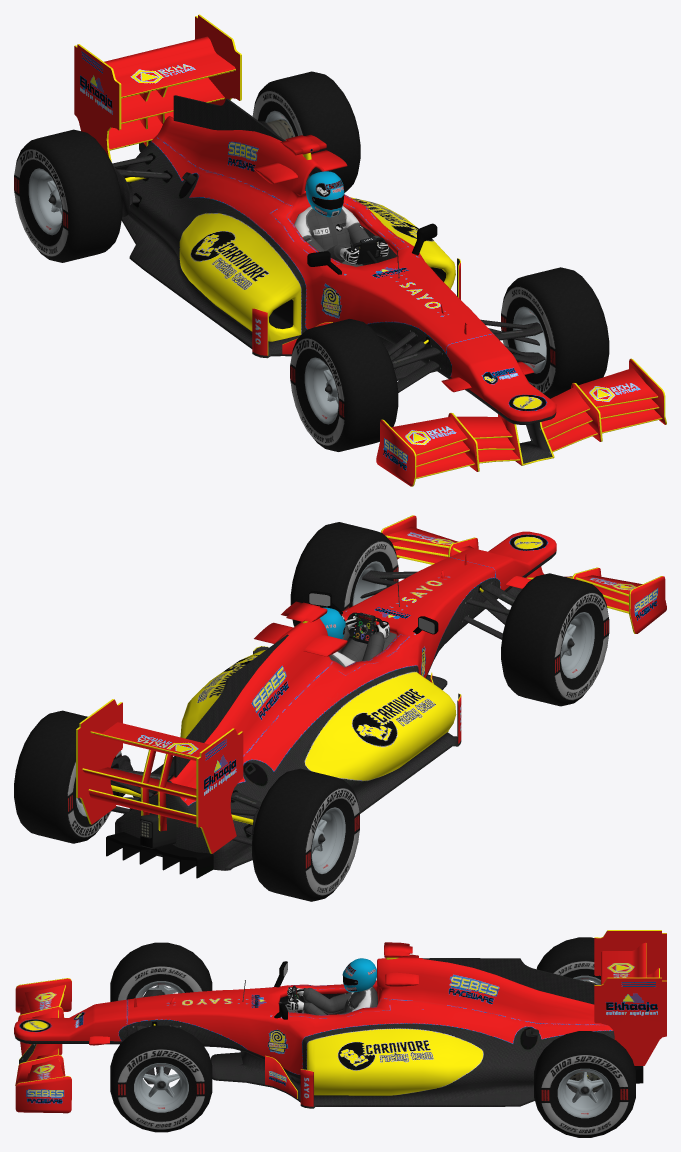
3 renders of one model, top to bottom at view 1: azimuth 30°, elevation 25°; view 2: azimuth 150°, elevation 25°; view 3: azimuth 270°, elevation 25°, orthographic. The views are drawn at different scales.
Parts seen in each view (by area): view 1: RaceCar_V01_Body, RC_Tyre_V02_FR_MID, RC_Tyre_V02_FR_MID__1_, RC_Tyre_V02_FR_MID__2_, RC_Tyre_V02_FR_MID__3_, RC_Pilot_in_the_car_V01_FREE, RC_Pilot_Helmet_V01_FREE; view 2: RaceCar_V01_Body, RC_Tyre_V02_FR_MID__1_, RC_Tyre_V02_FR_MID, RC_Tyre_V02_FR_MID__3_, RC_Tyre_V02_FR_MID__2_, RC_Pilot_in_the_car_V01_FREE, RC_Steering_Wheel_V01, RC_Pilot_Helmet_V01_FREE; view 3: RaceCar_V01_Body, RC_Tyre_V02_FR_MID__2_, RC_Tyre_V02_FR_MID__3_, RC_Tyre_V02_FR_MID__1_, RC_Tyre_V02_FR_MID, RC_Pilot_in_the_car_V01_FREE, RC_Pilot_Helmet_V01_FREE.
Part boxes in pixels (x1=…): RaceCar_V01_Body: x1=74, y1=14, x2=666, y2=486; RC_Tyre_V02_FR_MID: x1=14, y1=129, x2=122, y2=262; RC_Tyre_V02_FR_MID__1_: x1=290, y1=319, x2=398, y2=451; RC_Tyre_V02_FR_MID__2_: x1=501, y1=267, x2=609, y2=398; RC_Tyre_V02_FR_MID__3_: x1=252, y1=71, x2=360, y2=192; RC_Pilot_in_the_car_V01_FREE: x1=294, y1=206, x2=388, y2=266; RC_Pilot_Helmet_V01_FREE: x1=306, y1=171, x2=344, y2=217; RaceCar_V01_Body: x1=76, y1=515, x2=666, y2=878; RC_Tyre_V02_FR_MID__1_: x1=501, y1=573, x2=609, y2=706; RC_Tyre_V02_FR_MID: x1=252, y1=768, x2=359, y2=901; RC_Tyre_V02_FR_MID__3_: x1=14, y1=710, x2=121, y2=843; RC_Tyre_V02_FR_MID__2_: x1=290, y1=522, x2=398, y2=626; RC_Pilot_in_the_car_V01_FREE: x1=329, y1=616, x2=396, y2=667; RC_Steering_Wheel_V01: x1=347, y1=612, x2=383, y2=643; RC_Pilot_Helmet_V01_FREE: x1=319, y1=607, x2=345, y2=639; RaceCar_V01_Body: x1=14, y1=930, x2=666, y2=1113; RC_Tyre_V02_FR_MID__2_: x1=110, y1=1025, x2=212, y2=1132; RC_Tyre_V02_FR_MID__3_: x1=534, y1=1031, x2=635, y2=1137; RC_Tyre_V02_FR_MID__1_: x1=110, y1=942, x2=212, y2=1001; RC_Tyre_V02_FR_MID: x1=536, y1=937, x2=600, y2=984; RC_Pilot_in_the_car_V01_FREE: x1=279, y1=986, x2=377, y2=1015; RC_Pilot_Helmet_V01_FREE: x1=342, y1=958, x2=376, y2=992.
Bounding box in the file's own units: 1944 × 1072 × 4674.
